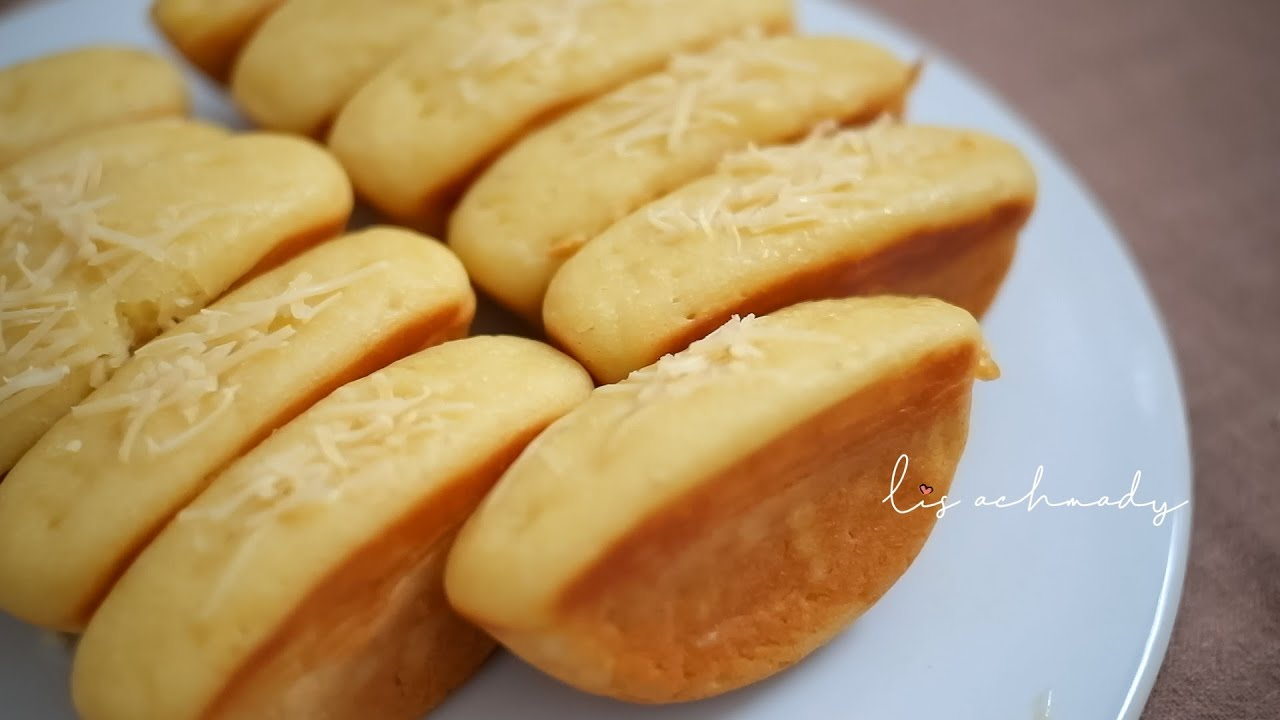pukis: (435, 275, 1038, 700)
